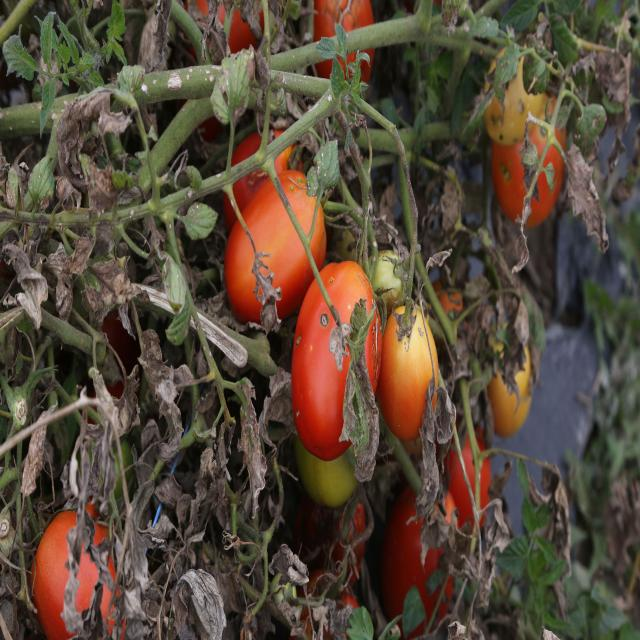damaged: (291, 254, 385, 459), (225, 164, 331, 327)
fine: (379, 304, 443, 457)
